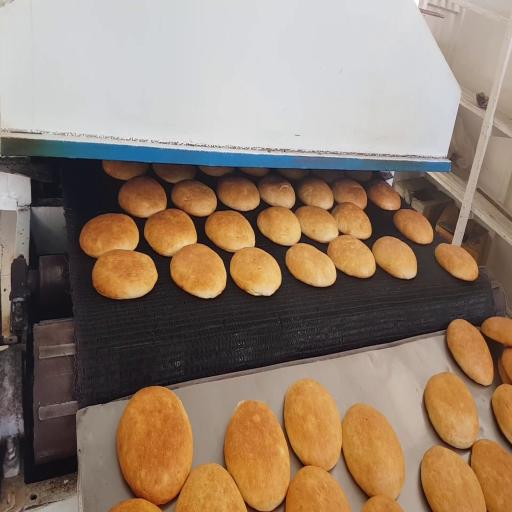bread: (117, 387, 193, 504), (224, 401, 290, 511), (343, 404, 405, 499), (284, 379, 342, 470), (421, 446, 486, 511), (424, 373, 478, 448), (175, 463, 246, 511), (92, 250, 157, 299), (447, 319, 494, 385), (171, 244, 226, 298), (471, 439, 511, 511), (286, 466, 350, 511), (80, 214, 139, 258), (230, 247, 281, 296), (144, 209, 197, 256), (286, 243, 336, 287), (205, 211, 255, 252), (328, 235, 375, 278), (118, 176, 166, 218), (372, 237, 417, 279), (257, 207, 301, 246), (171, 180, 217, 217), (435, 243, 478, 281), (295, 206, 338, 243), (217, 176, 259, 211), (332, 202, 371, 239), (394, 209, 433, 244), (258, 174, 295, 208), (492, 384, 511, 443), (298, 178, 333, 210), (332, 178, 367, 209), (368, 180, 401, 210), (103, 161, 149, 180), (481, 317, 511, 346), (153, 164, 195, 183), (361, 495, 403, 511), (110, 499, 160, 511), (497, 349, 512, 384), (313, 170, 344, 183), (199, 166, 234, 177), (500, 348, 511, 378), (279, 169, 309, 180), (239, 168, 269, 177), (346, 171, 372, 181)
